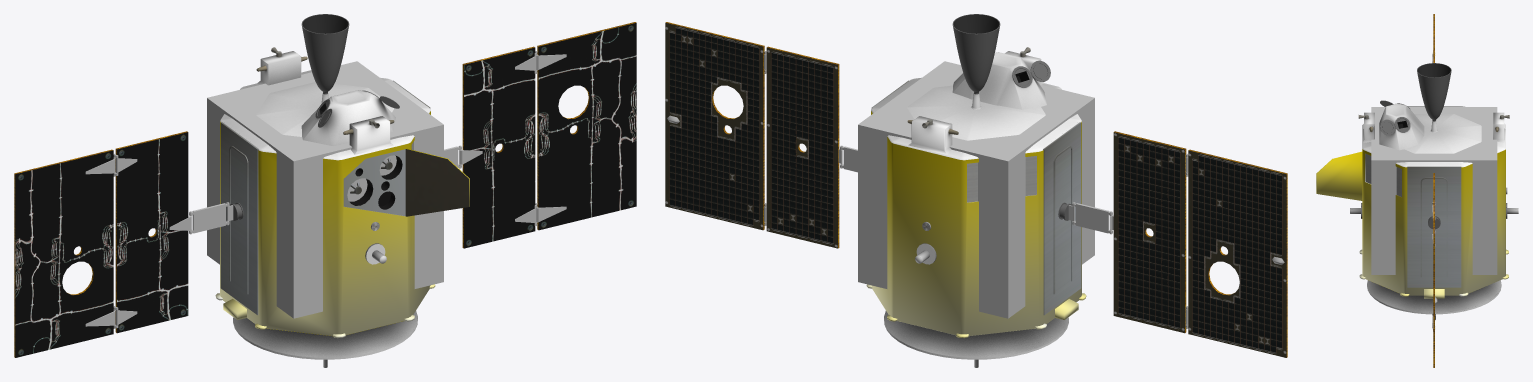
Rendered from clementine.obj.
3 renders of one model, left to right at view 1: azimuth 30°, elevation 25°; view 2: azimuth 150°, elevation 25°; view 3: azimuth 270°, elevation 25°, orthographic. The views are drawn at different scales.
Parts seen in each view (by area): view 1: tex_01_Cylinder.017, _root_Cube.000, foil_gold_Cylinder.013, foil_white_Cylinder.023, AO_dish_Cylinder.020, AO_hinges_Cube.011; view 2: shiny_panel_Cube.013, foil_gold_Cylinder.013, _root_Cube.000, tex_01_Cylinder.017, foil_white_Cylinder.023, AO_dish_Cylinder.020, AO_hinges_Cube.011; view 3: tex_01_Cylinder.017, _root_Cube.000, foil_gold_Cylinder.013, foil_white_Cylinder.023, AO_dish_Cylinder.020.
Boxes of the visible parts, x1,y1,x2,y2 form: tex_01_Cylinder.017: (14, 14, 636, 357); _root_Cube.000: (207, 61, 443, 318); foil_gold_Cylinder.013: (215, 111, 469, 338); foil_white_Cylinder.023: (220, 51, 430, 160); AO_dish_Cylinder.020: (233, 243, 417, 367); AO_hinges_Cube.011: (85, 51, 566, 328); shiny_panel_Cube.013: (665, 23, 1286, 357); foil_gold_Cylinder.013: (866, 111, 1086, 338); _root_Cube.000: (858, 61, 1094, 318); tex_01_Cylinder.017: (665, 14, 1287, 357); foil_white_Cylinder.023: (871, 51, 1081, 160); AO_dish_Cylinder.020: (884, 243, 1068, 367); AO_hinges_Cube.011: (764, 51, 1188, 328); tex_01_Cylinder.017: (1358, 14, 1509, 367); _root_Cube.000: (1371, 107, 1497, 274); foil_gold_Cylinder.013: (1316, 149, 1508, 298); foil_white_Cylinder.023: (1362, 103, 1505, 167); AO_dish_Cylinder.020: (1350, 203, 1518, 319).
Size of the model in its own units: 4.13 by 2.18 by 1.6.
8 materials, 5 textured.
